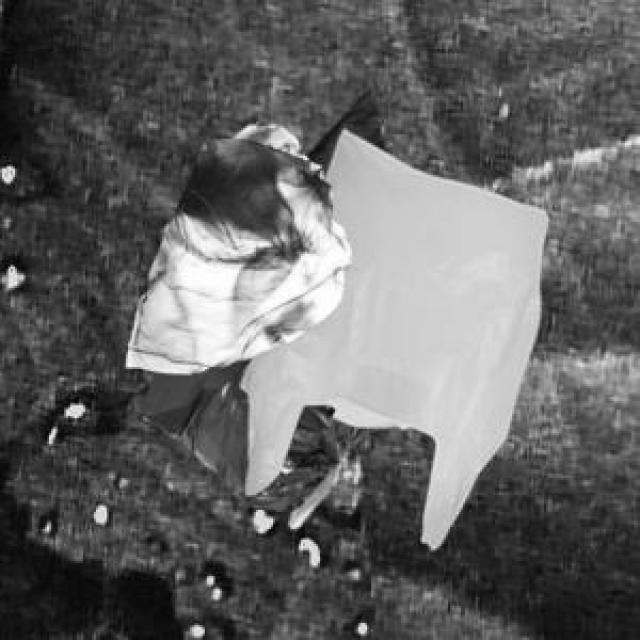miscellaneous trash: (117, 88, 380, 525)
